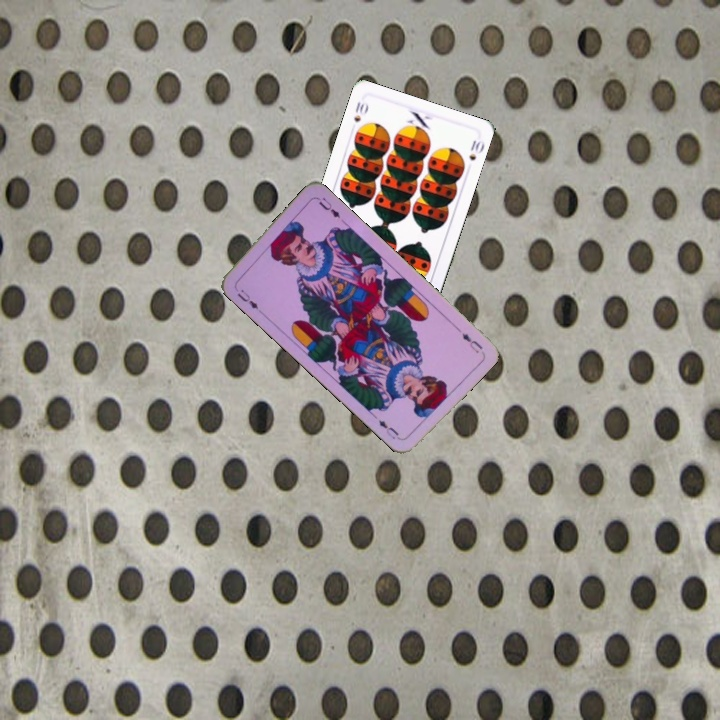EU: (233, 285, 264, 314), (458, 329, 485, 356)
S10: (350, 98, 371, 124)
